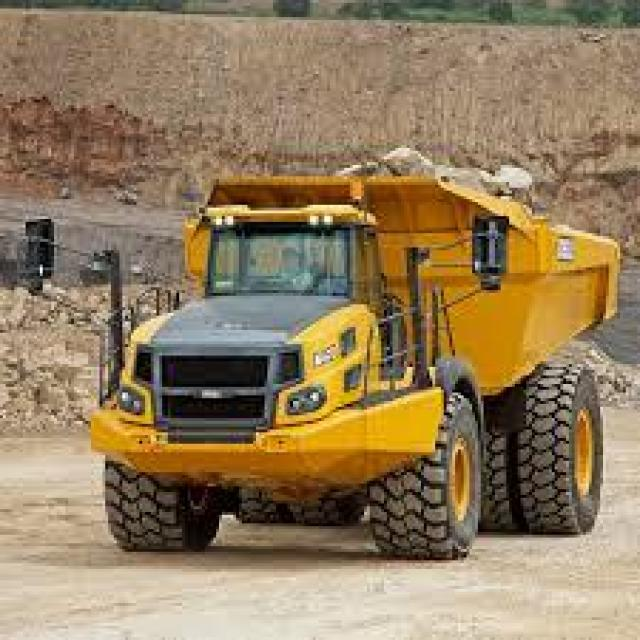dump_truck: (86, 154, 622, 586)
